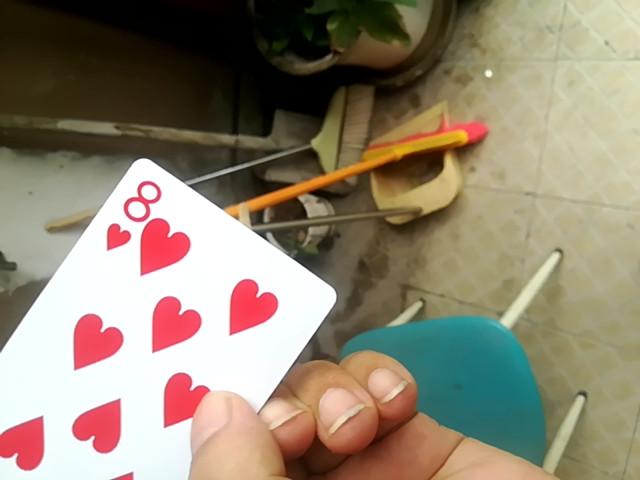hx 8: (4, 160, 332, 479)
